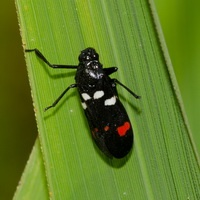insect: (25, 48, 139, 157)
